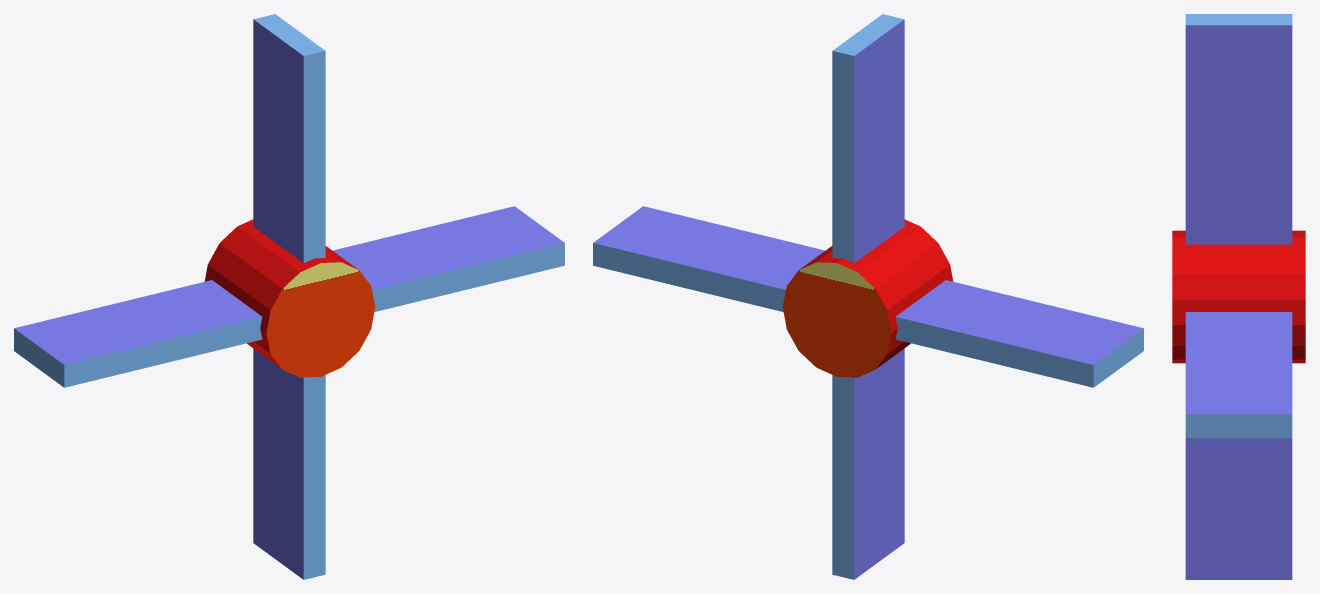
The model's file is windupTurn.fbx.
3 renders of one model, left to right at view 1: azimuth 30°, elevation 25°; view 2: azimuth 150°, elevation 25°; view 3: azimuth 270°, elevation 25°, orthographic. The views are drawn at different scales.
Parts seen in each view (by area): view 1: windupTurn_spokeB, windupTurn_spokeA, windupTurn_frame; view 2: windupTurn_spokeB, windupTurn_spokeA, windupTurn_frame; view 3: windupTurn_spokeB, windupTurn_spokeA, windupTurn_frame.
Part boxes in pixels (x1,y1,x2,y2): windupTurn_spokeB: [253, 14, 325, 579]; windupTurn_spokeA: [14, 206, 564, 387]; windupTurn_frame: [204, 219, 375, 377]; windupTurn_spokeB: [832, 14, 904, 579]; windupTurn_spokeA: [593, 206, 1143, 387]; windupTurn_frame: [782, 219, 953, 377]; windupTurn_spokeB: [1185, 14, 1292, 579]; windupTurn_spokeA: [1185, 312, 1292, 438]; windupTurn_frame: [1172, 230, 1305, 363].
Bounding box in the file's own units: 460 × 460 × 100.
